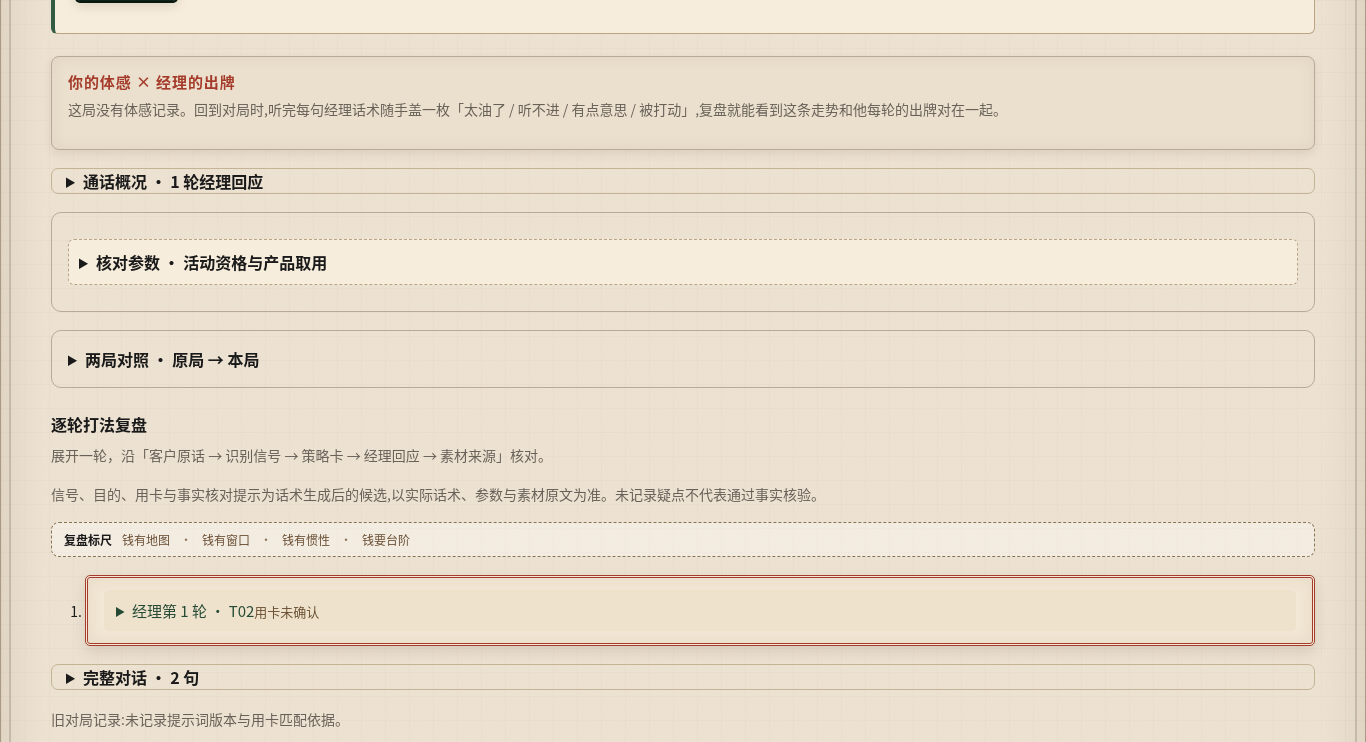
Test: 透镜改进:观察问题与两局对照 › 原局被清理不阻止本局复盘,重试加载后可显示原局
The width and height of the screenshot is (1366, 742).
(page scrolled)
Click the heading "两局对照 · 原局 → 本局" at (172, 359), box [85,347,259,371]
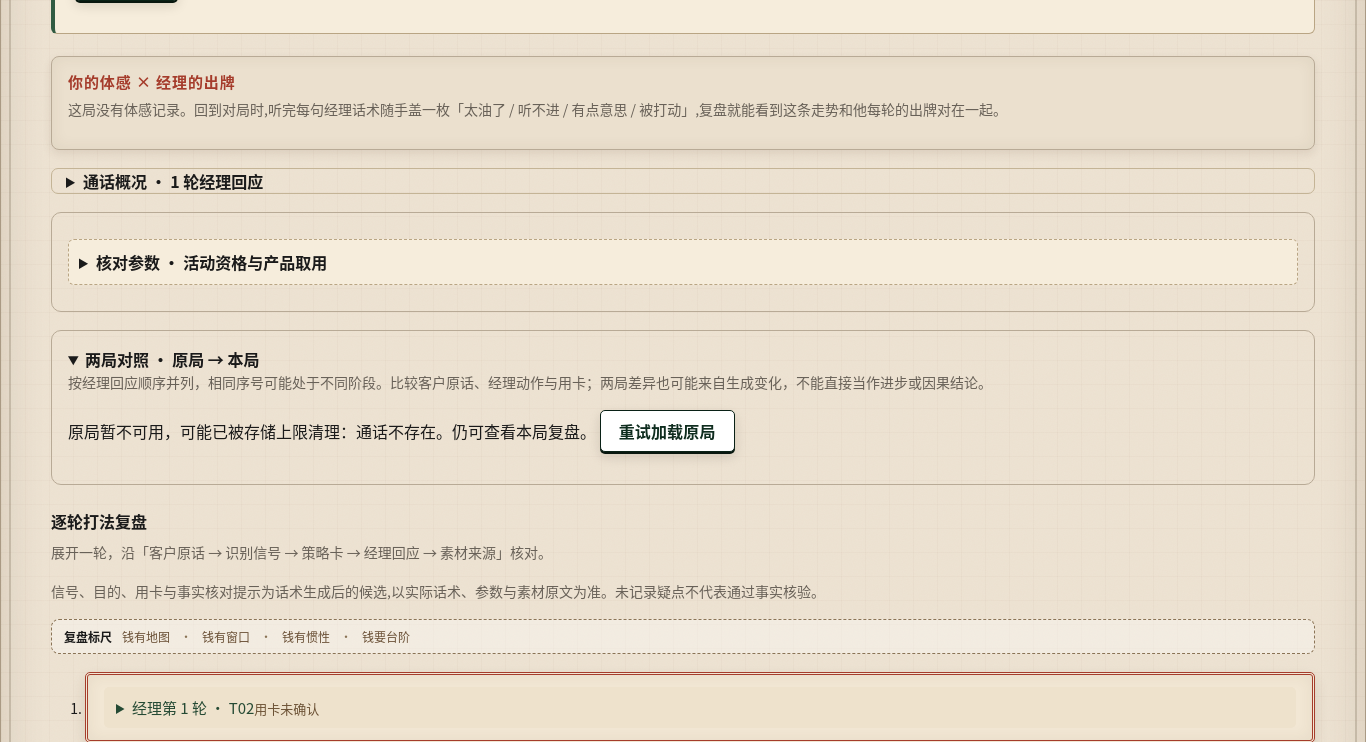
Expected: the message shows "仍可查看本局复盘", [436,419,600,443]
Click the button "重试加载原局" at (667, 431), box [600,410,735,452]
(page scrolled)
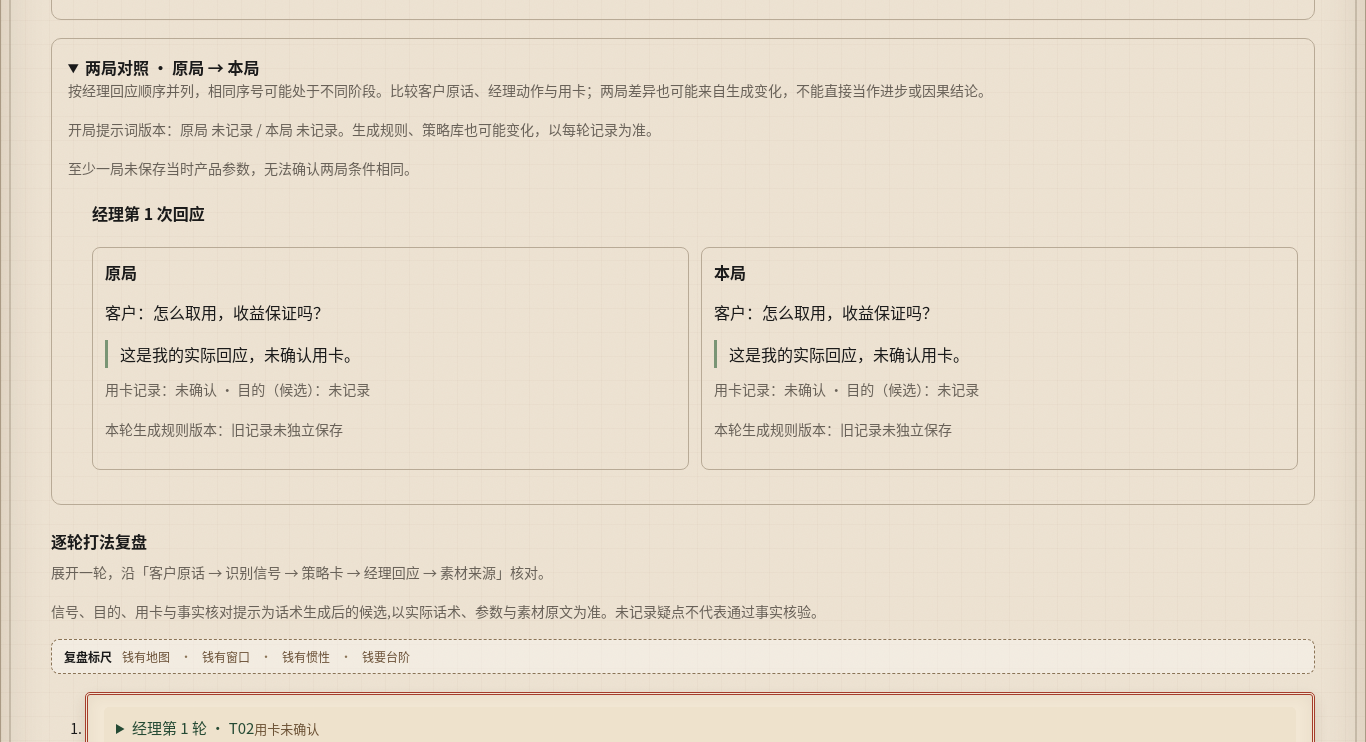
Expected: the element named "原局第1次回应" shows "怎么取用，收益保证吗", [153,300,329,324]
